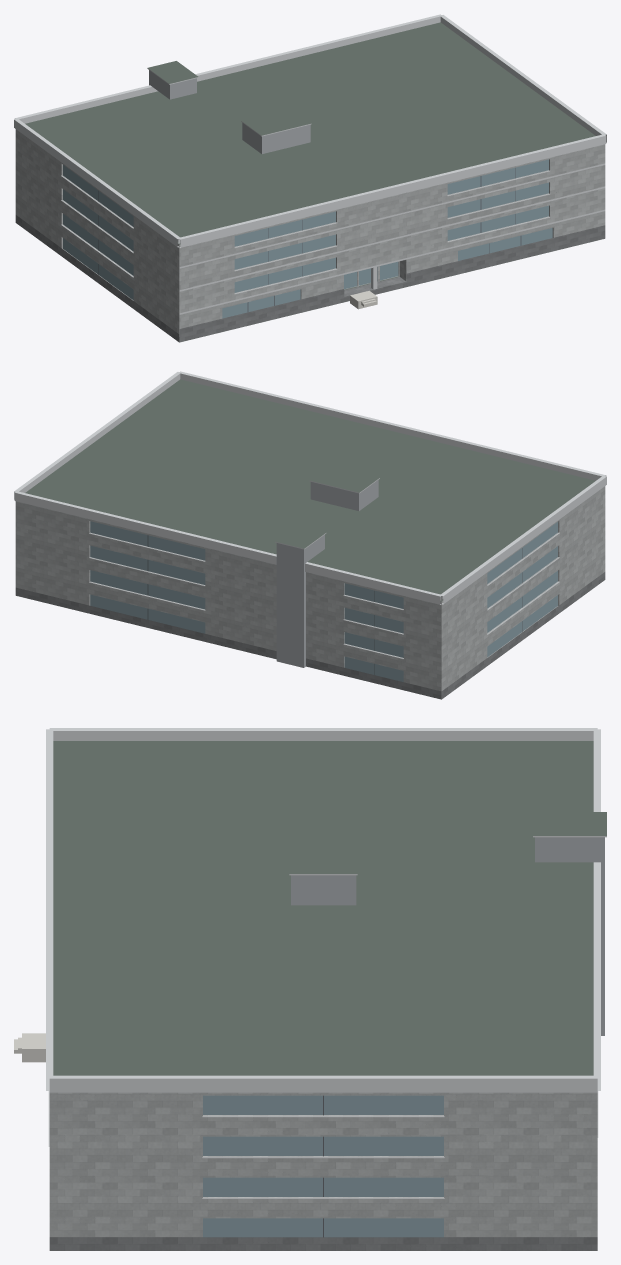
The picture shows the model from 3 angles, top to bottom: view 1: azimuth 30°, elevation 25°; view 2: azimuth 150°, elevation 25°; view 3: azimuth 270°, elevation 25°; orthographic projection. The views are drawn at different scales.
Parts seen in each view (by area): view 1: b71_1__roof, b71_1__wall, b71_1__trim, b71_1__glass, b71_1__base, b71_1__wall2; view 2: b71_1__roof, b71_1__wall, b71_1__trim, b71_1__glass, b71_1__wall2, b71_1__base; view 3: b71_1__roof, b71_1__wall, b71_1__trim, b71_1__glass, b71_1__base, b71_1__wall2, b71_1__entranceStair.
Part boxes in pixels (x1=…): b71_1__roof: x1=25, y1=22, x2=604, y2=342; b71_1__wall: x1=15, y1=129, x2=605, y2=336; b71_1__trim: x1=14, y1=14, x2=606, y2=314; b71_1__glass: x1=63, y1=159, x2=552, y2=318; b71_1__base: x1=15, y1=215, x2=605, y2=342; b71_1__wall2: x1=149, y1=70, x2=310, y2=153; b71_1__roof: x1=25, y1=379, x2=595, y2=601; b71_1__wall: x1=15, y1=486, x2=605, y2=698; b71_1__trim: x1=14, y1=371, x2=606, y2=659; b71_1__glass: x1=90, y1=521, x2=557, y2=681; b71_1__wall2: x1=276, y1=480, x2=378, y2=667; b71_1__base: x1=15, y1=572, x2=605, y2=699; b71_1__roof: x1=53, y1=741, x2=606, y2=1075; b71_1__wall: x1=49, y1=1092, x2=597, y2=1237; b71_1__trim: x1=46, y1=728, x2=606, y2=1198; b71_1__glass: x1=203, y1=1095, x2=443, y2=1237; b71_1__base: x1=49, y1=1237, x2=597, y2=1250; b71_1__wall2: x1=291, y1=837, x2=604, y2=1035; b71_1__entranceStair: x1=14, y1=1033, x2=45, y2=1062.
Size of the model in its own units: 66.19 by 18.03 by 47.3.
10 materials, 2 textured.
